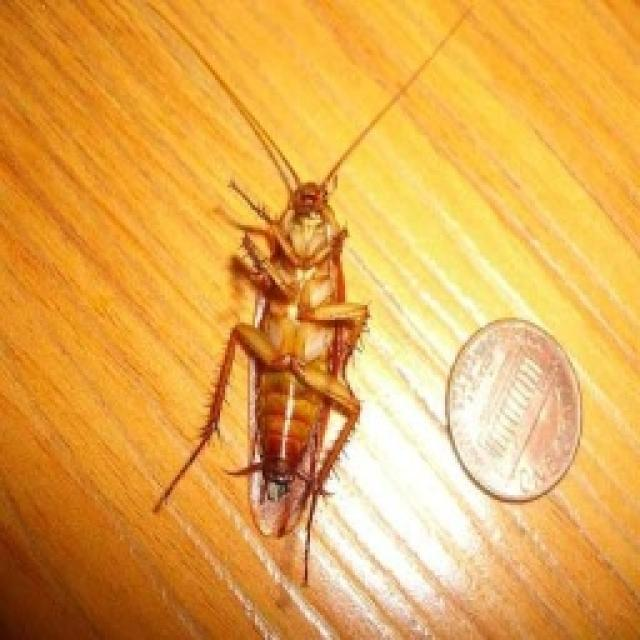cockroach: (165, 75, 430, 620)
